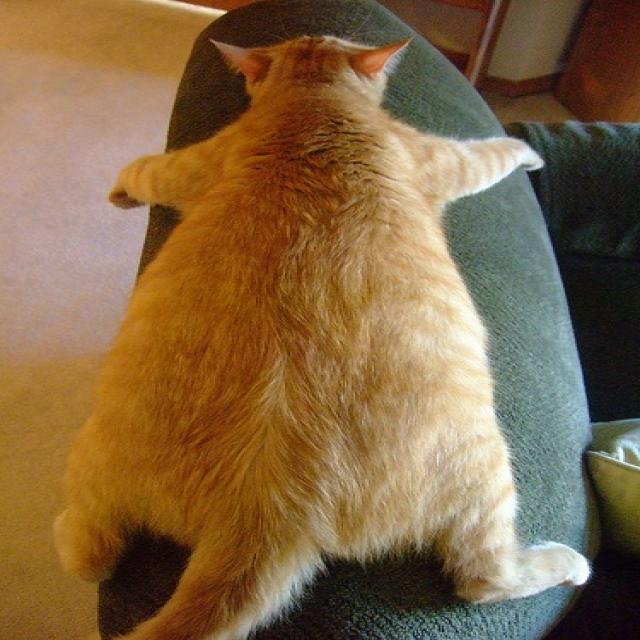cat: (50, 32, 592, 639)
sofa: (99, 0, 638, 639)
